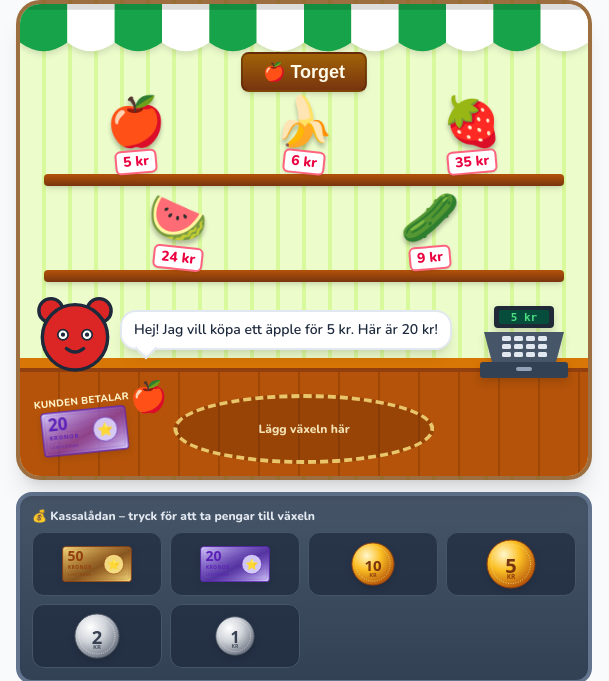
Test: the shop › at the till: too little change gets a puzzled customer, the right change a thank-you and the question solved
Click the button "10 KR" at (373, 564), box x1=308 y1=532 x2=438 y2=596
(page scrolled)
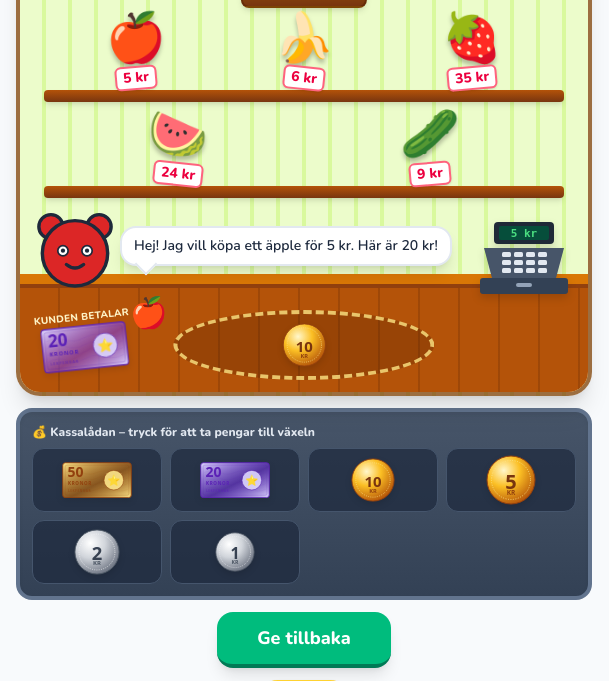
Click the button "Ge tillbaka" at (304, 640), box x1=217 y1=612 x2=391 y2=668
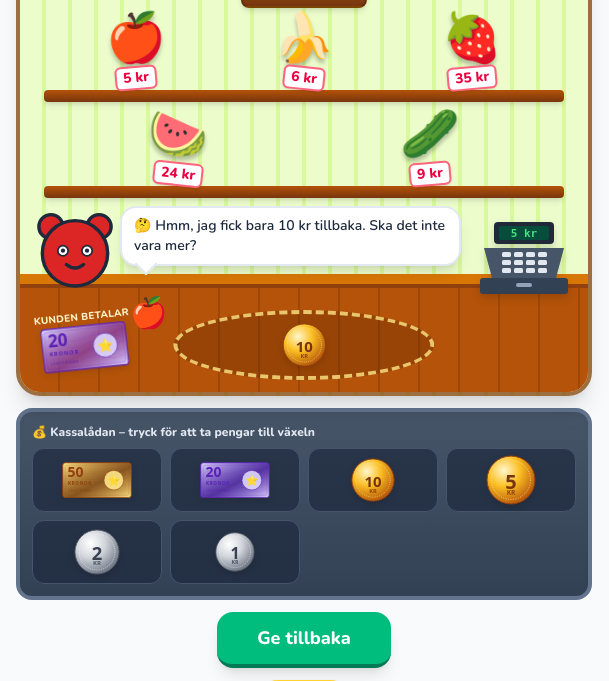
Expected: the message "🤔 Hmm, jag fick bara 10 kr tillbaka. Ska det inte vara mer?" is shown, x1=120 y1=206 x2=461 y2=266
Click the button "5 KR" at (511, 480), box x1=446 y1=448 x2=576 y2=512
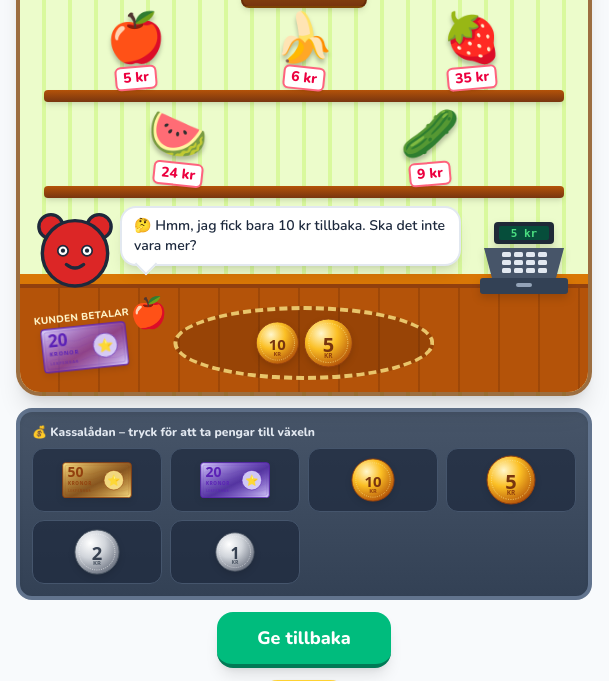
Click the button "Ge tillbaka" at (304, 640), box x1=217 y1=612 x2=391 y2=668
(page scrolled)
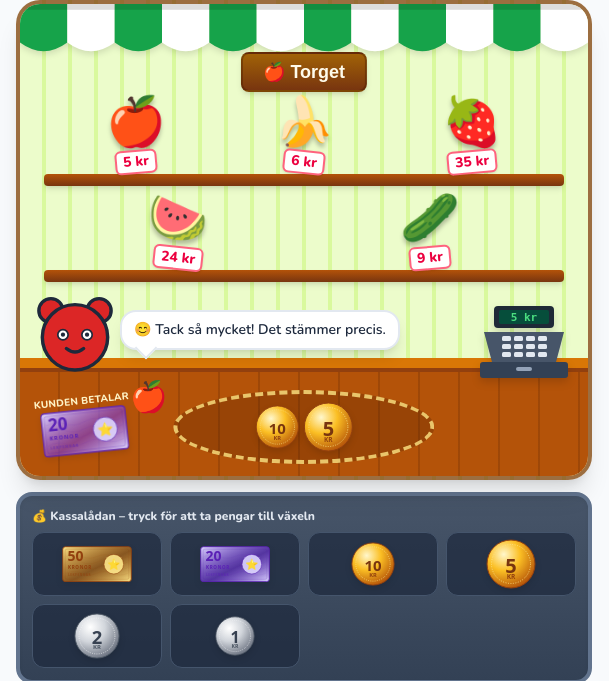
Expected: the message "😊 Tack så mycket! Det stämmer precis." is shown, x1=120 y1=310 x2=400 y2=350
